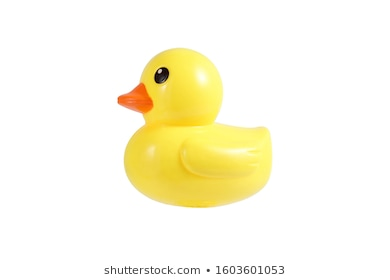duck: (89, 40, 293, 222)
